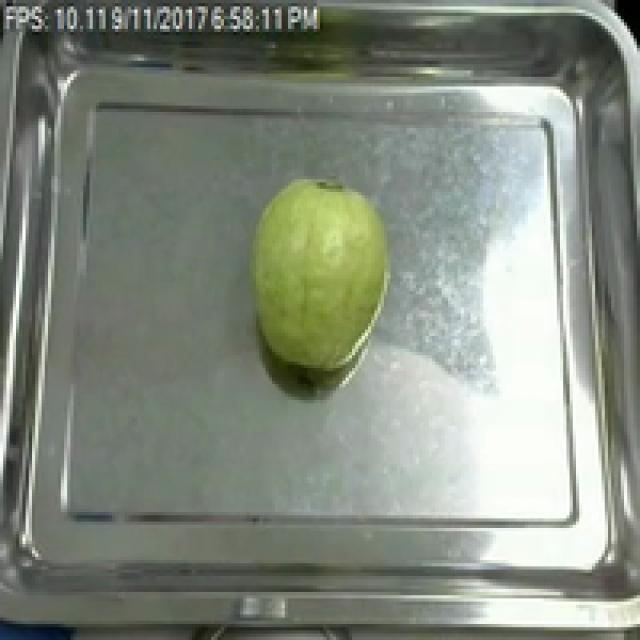Fruit: (240, 170, 400, 378)
